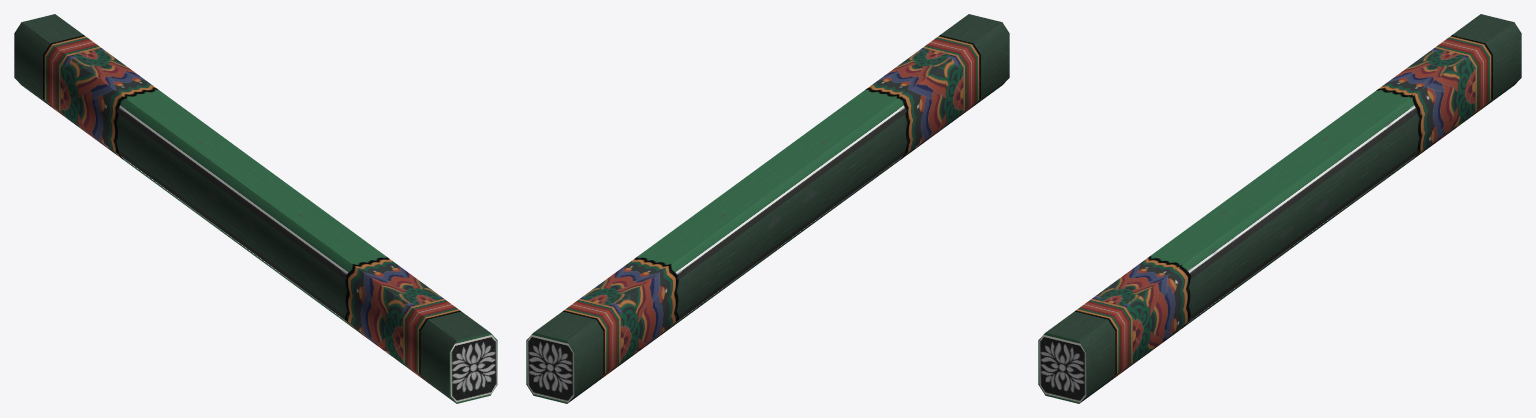
File: SM_Lintel01b.fbx
3 views of the same model, side by side, from view 1: azimuth 30°, elevation 25°; view 2: azimuth 150°, elevation 25°; view 3: azimuth 330°, elevation 25° (orthographic).
Parts seen in each view (by area): view 1: SM_Lintel01b; view 2: SM_Lintel01b; view 3: SM_Lintel01b.
Boxes of the visible parts, x1,y1,x2,y2 form: SM_Lintel01b: [14, 14, 497, 403]; SM_Lintel01b: [526, 14, 1009, 403]; SM_Lintel01b: [1038, 14, 1521, 403].
Size of the model in its own units: 16 by 250 by 20.
1 material, 1 textured.
